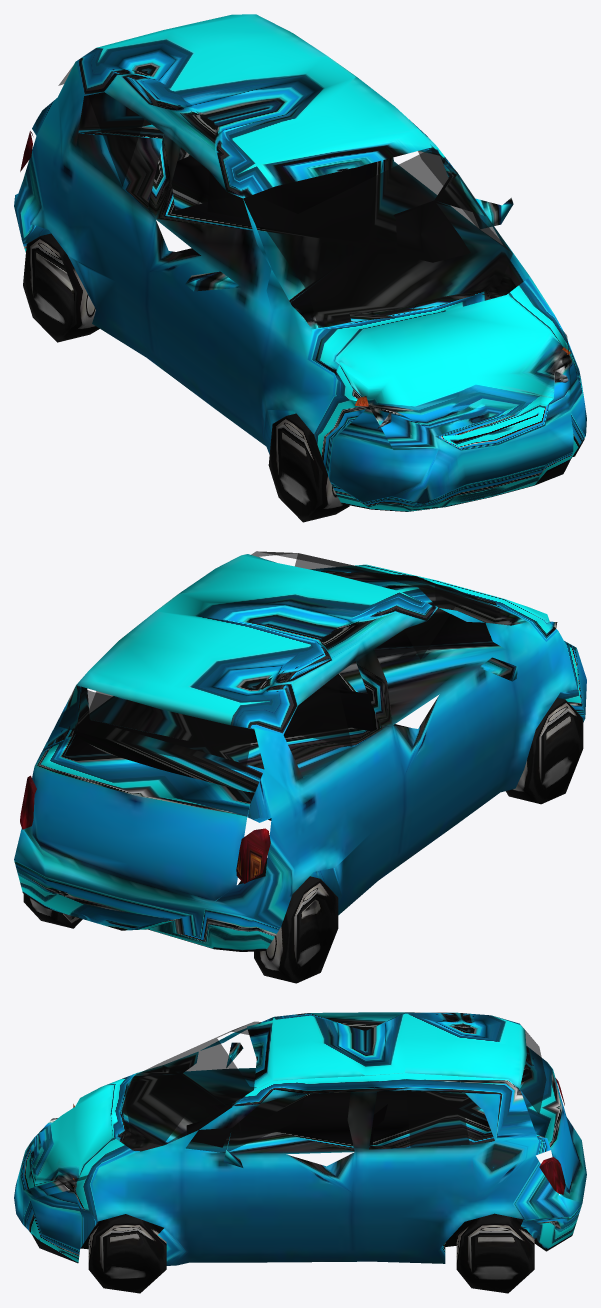
The model's file is compact_far.glb.
The picture shows the model from 3 angles, top to bottom: view 1: azimuth 30°, elevation 25°; view 2: azimuth 150°, elevation 25°; view 3: azimuth 270°, elevation 25°; orthographic projection. The views are drawn at different scales.
Parts seen in each view (by area): view 1: body, wheel_rr, wheel_fr; view 2: body, wheel_rr, wheel_fr, wheel_rl; view 3: body, wheel_rl, wheel_fl.
Part boxes in pixels (left/top/right/bottom): body: left=14, top=14, right=586, bottom=511; wheel_rr: left=23, top=233, right=99, bottom=342; wheel_fr: left=268, top=413, right=349, bottom=522; body: left=14, top=551, right=586, bottom=951; wheel_rr: left=254, top=876, right=338, bottom=983; wheel_fr: left=506, top=697, right=583, bottom=804; wheel_rl: left=23, top=894, right=82, bottom=928; body: left=14, top=1012, right=586, bottom=1265; wheel_rl: left=456, top=1213, right=534, bottom=1293; wheel_fl: left=88, top=1214, right=166, bottom=1293.
Bounding box in the file's own units: 1.97 × 1.59 × 3.98.
4 materials, 3 textured.
